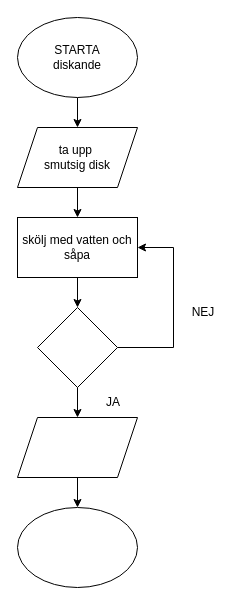
Some shapes in this 251 by 605 pixel diagram are drawn without their labels. The box of each missing label's shape, as (x1, y1, x2, y2) in pixels:
AVSLUTA: (16, 506, 138, 588)
är det rent?: (36, 306, 118, 388)
